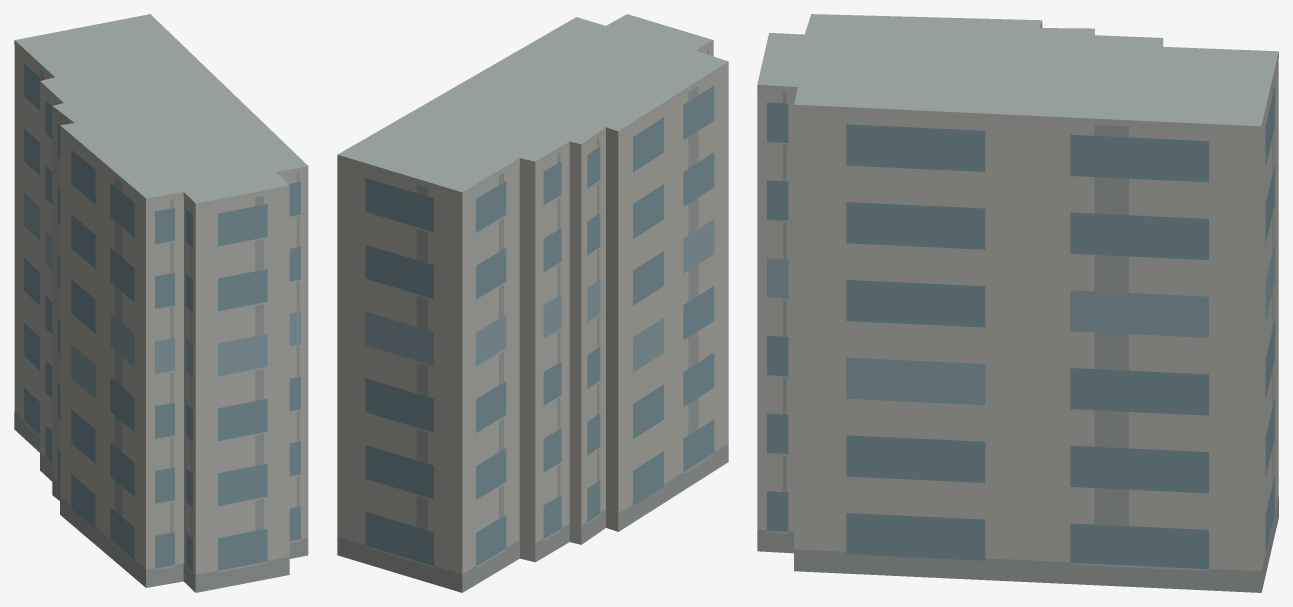
File: survey-upis-32567269.glb
3 renders of one model, left to right at view 1: azimuth 30°, elevation 25°; view 2: azimuth 150°, elevation 25°; view 3: azimuth 270°, elevation 25°, orthographic. The views are drawn at different scales.
Visible parts, largest first — view 1: survey-upis-32567269.tmp; view 2: survey-upis-32567269.tmp; view 3: survey-upis-32567269.tmp.
Part boxes in pixels (x1,y1,x2,y2): survey-upis-32567269.tmp: [14, 14, 308, 592]; survey-upis-32567269.tmp: [337, 14, 728, 592]; survey-upis-32567269.tmp: [757, 14, 1278, 592].
Bounding box in the file's own units: 9.26 × 17.9 × 18.15.
